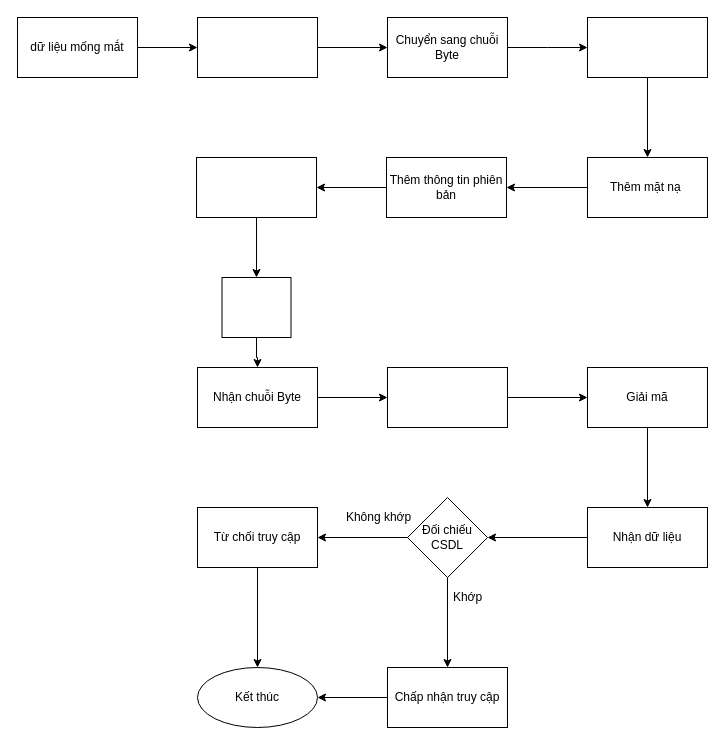
This 725x745 diagram has some shape labels left out. The shapes that lost their labels are listed below. From the top down, each one's centre as x and y in pixels, then its label:
pixel 257 47: Mã hóa
pixel 647 47: Thêm thông tin header và mã sửa lỗi
pixel 256 187: Tạo mã QR
pixel 256 307: QR Code
pixel 447 397: Phân tích mã lỗi
